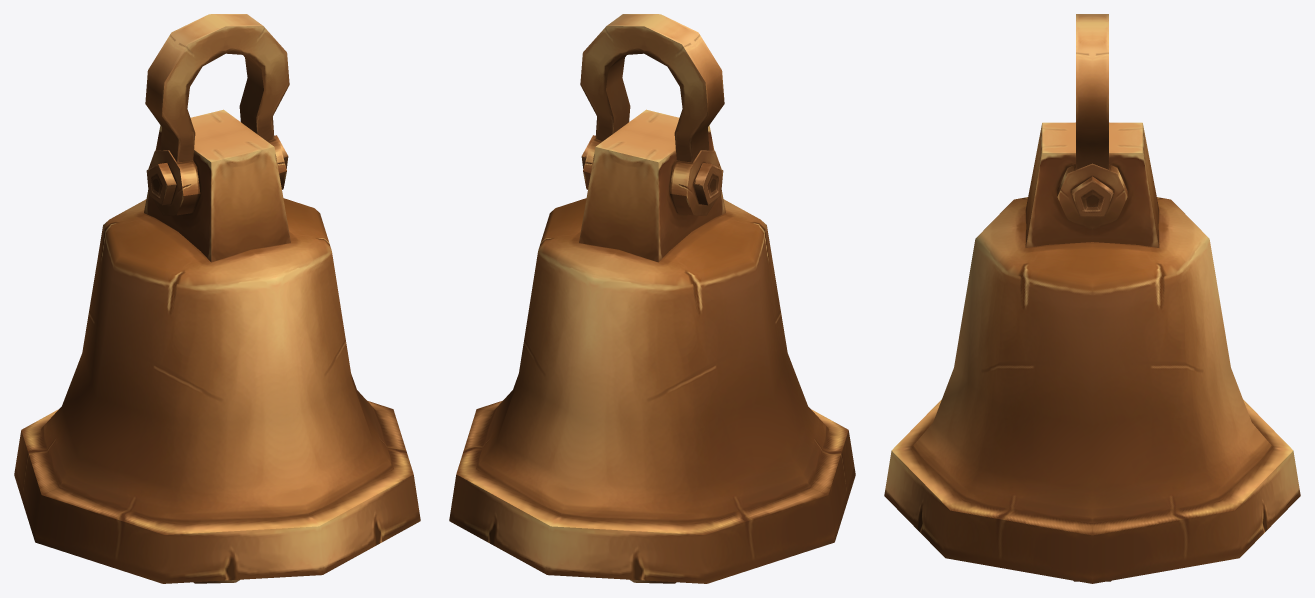
The model's file is 51_bell.FBX.
3 views of the same model, side by side, from view 1: azimuth 30°, elevation 25°; view 2: azimuth 150°, elevation 25°; view 3: azimuth 270°, elevation 25° (orthographic).
Visible parts, largest first — view 1: Object048; view 2: Object048; view 3: Object048.
Boxes of the visible parts, <box> form: Object048: <box>14,14,420,583</box>; Object048: <box>449,14,855,583</box>; Object048: <box>884,14,1300,583</box>.
Bounding box in the file's own units: 45.91 × 67.55 × 45.91.
